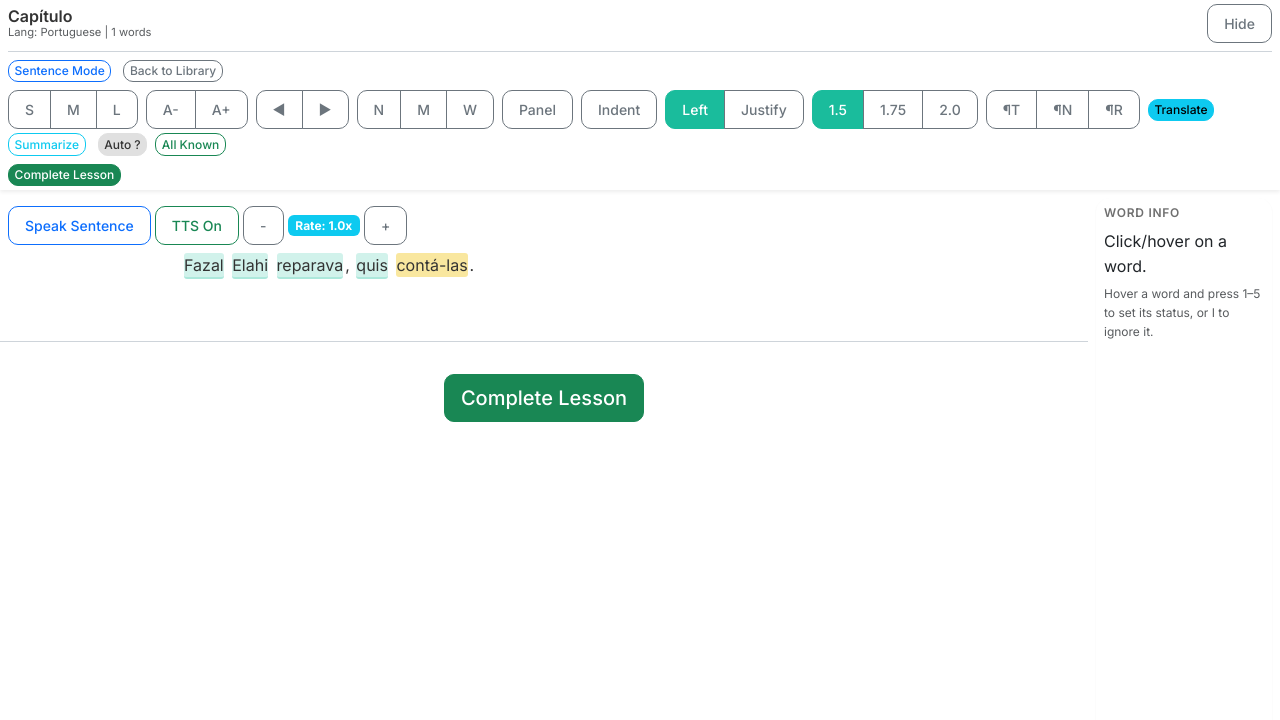
Test: TextDisplay › soft-hyphenated European words render as single clickable words
The image size is (1280, 720).
Click the text with class "clickable-word" showing "reparava": coordinates (310, 266) [276,253,343,279]
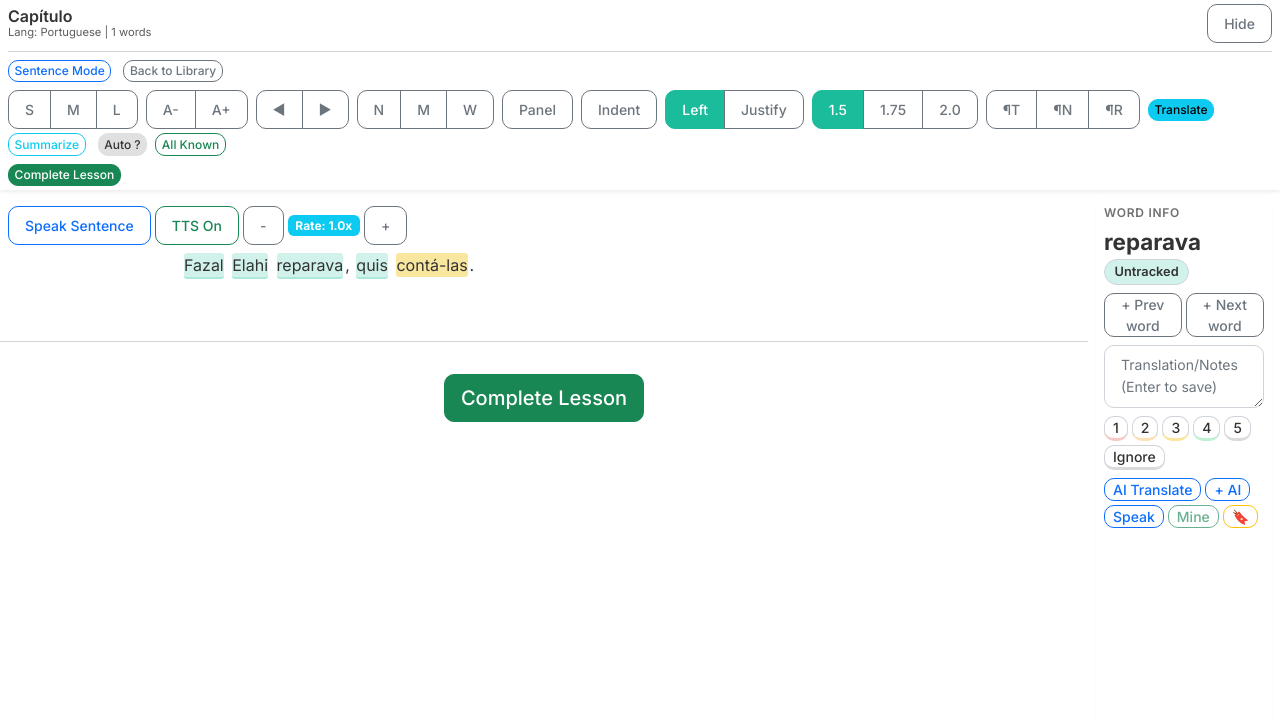
expect the heading "reparava" is shown: met, box [1104,228,1201,254]
